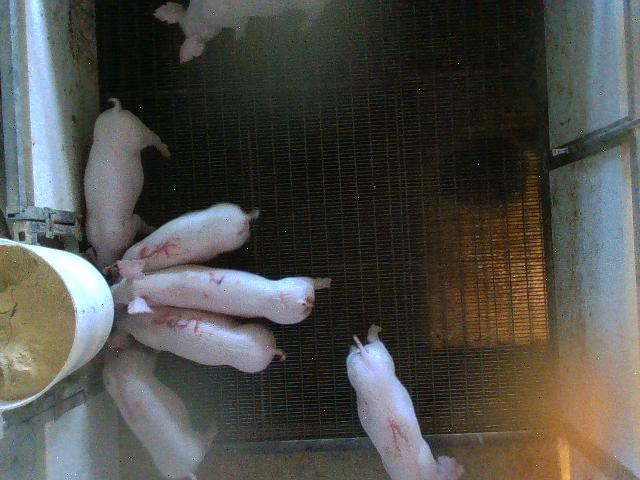pig-1: (346, 325, 464, 479)
pig-3: (108, 306, 285, 372)
pig-4: (104, 344, 216, 479)
pig-5: (122, 202, 260, 271)
